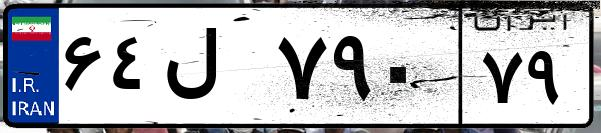0: (385, 28, 445, 110)
4: (110, 28, 158, 98)
6: (57, 26, 110, 100)
7: (270, 28, 330, 110), (475, 38, 525, 113)
9: (330, 28, 385, 110), (525, 38, 570, 115)
ل: (158, 20, 270, 120)
